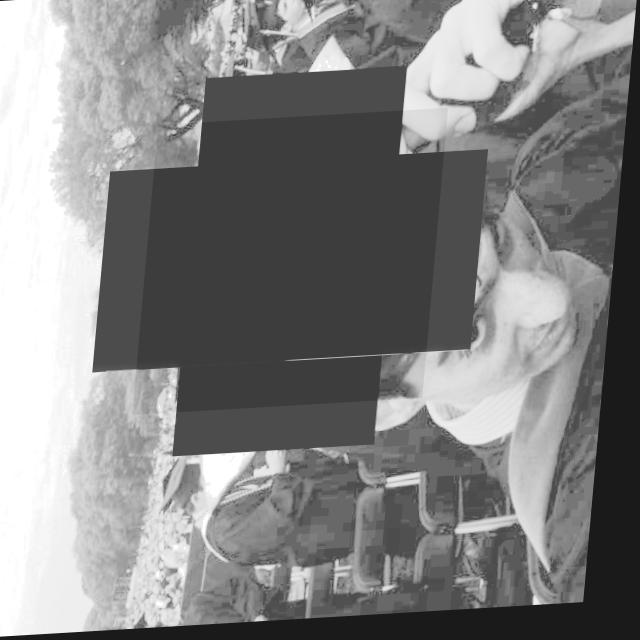qr_code: (140, 113, 451, 416)
